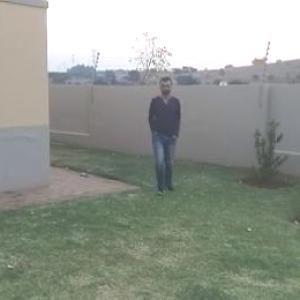follow: (142, 74, 182, 193)
